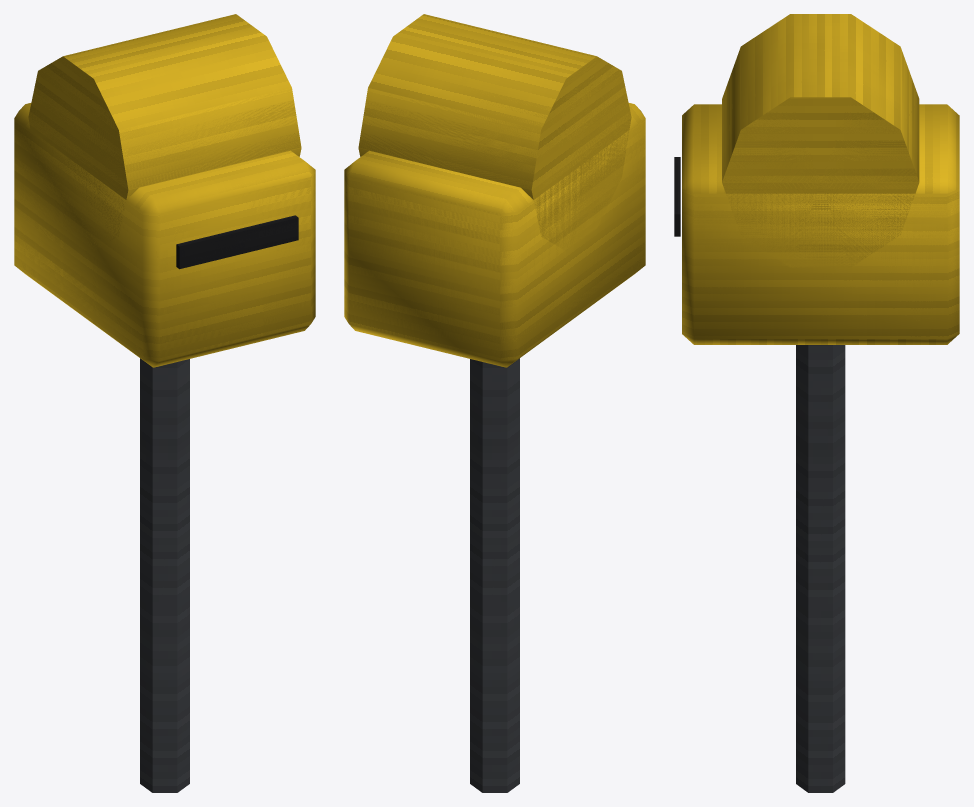
Rendered from caixa_correio.glb.
3 renders of one model, left to right at view 1: azimuth 30°, elevation 25°; view 2: azimuth 150°, elevation 25°; view 3: azimuth 270°, elevation 25°, orthographic.
Parts seen in each view (by area): view 1: Inteiro, Peca_01; view 2: Inteiro, Peca_01; view 3: Inteiro, Peca_01.
Boxes of the visible parts, x1,y1,x2,y2 form: Inteiro: [14, 56, 315, 792]; Peca_01: [14, 14, 315, 360]; Inteiro: [344, 56, 645, 792]; Peca_01: [344, 14, 645, 360]; Inteiro: [674, 97, 959, 792]; Peca_01: [674, 14, 959, 334].
Bounding box in the file's own units: 0.32 × 1.3 × 0.462.
Materials: 1 (1 with a texture image).
